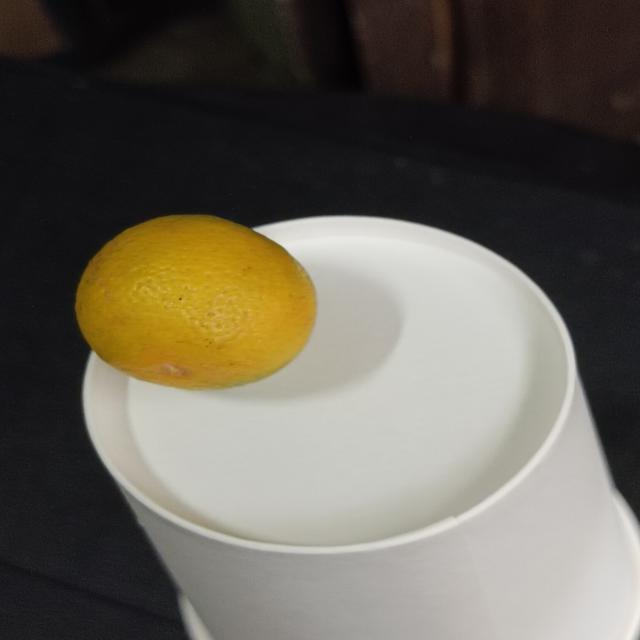greening: (70, 210, 324, 393)
